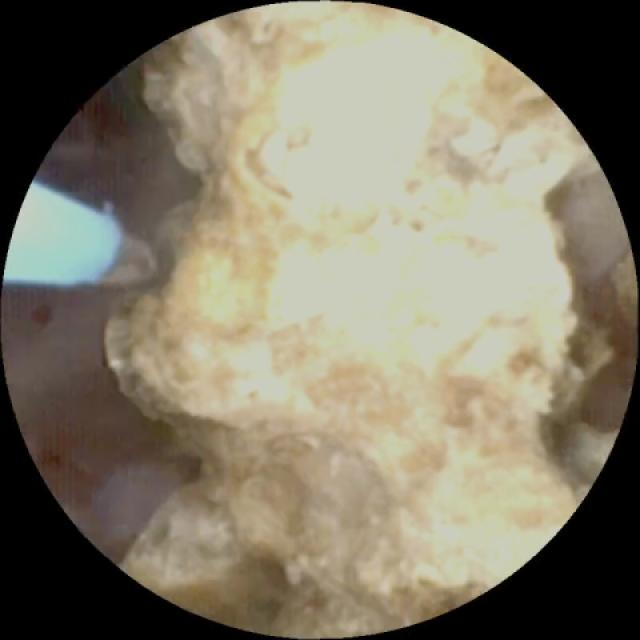fiber: (8, 185, 116, 283)
stone: (103, 6, 614, 637)
